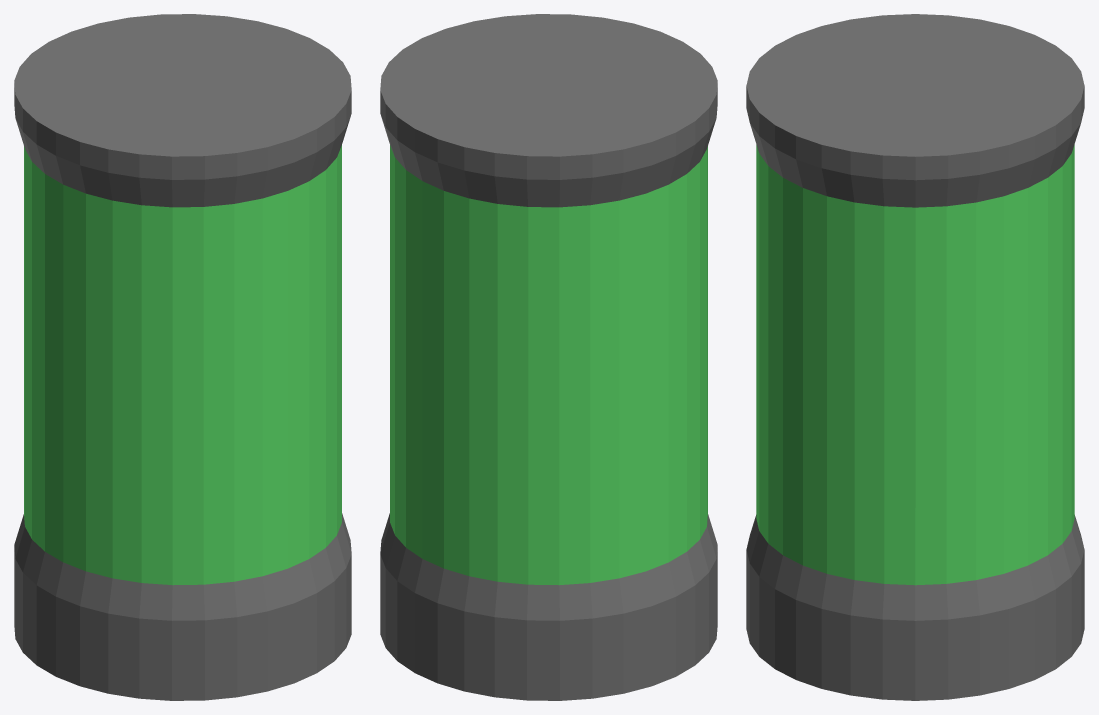
Rendered from Vat.fbx.
3 views of the same model, side by side, from view 1: azimuth 30°, elevation 25°; view 2: azimuth 150°, elevation 25°; view 3: azimuth 270°, elevation 25° (orthographic).
Visible parts, largest first — view 1: Cylinder; view 2: Cylinder; view 3: Cylinder.
Boxes of the visible parts, bbox=[...] form: Cylinder: bbox=[14, 14, 351, 700]; Cylinder: bbox=[380, 14, 717, 700]; Cylinder: bbox=[746, 14, 1084, 700].
Bounding box in the file's own units: 200 × 355 × 200.
